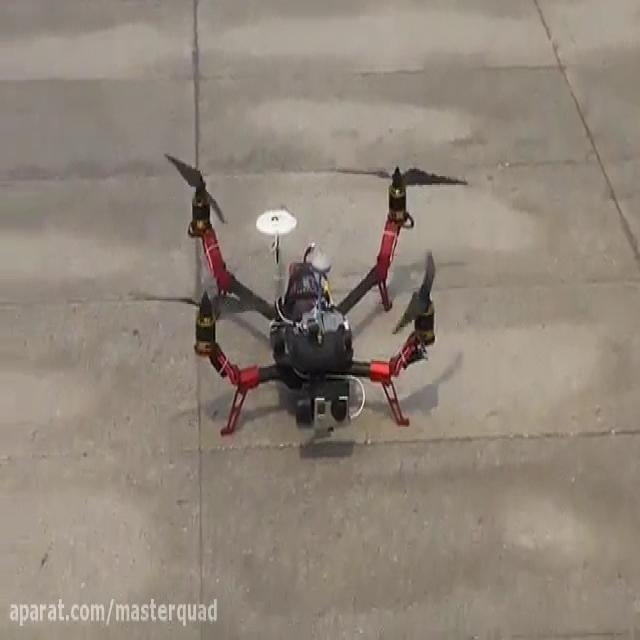drone: (144, 149, 470, 443)
